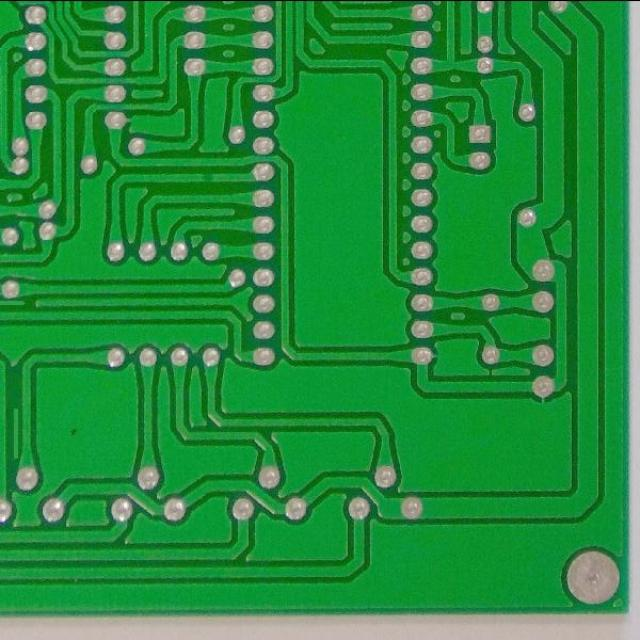Spurious_Cooper: (8, 403, 24, 464), (0, 298, 28, 309)
